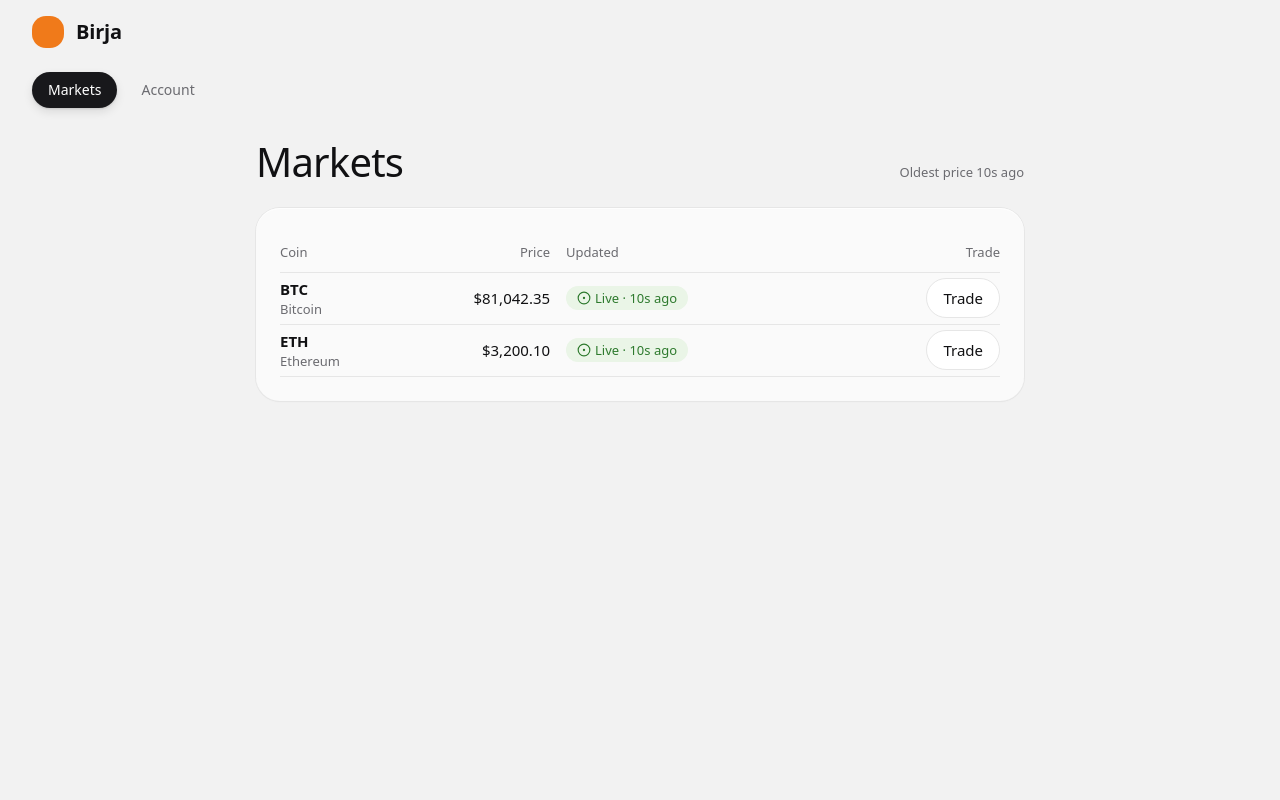
Test: App › navigates from Markets to Account
Click the link "Account" at (168, 90), box x1=142 y1=80 x2=195 y2=99
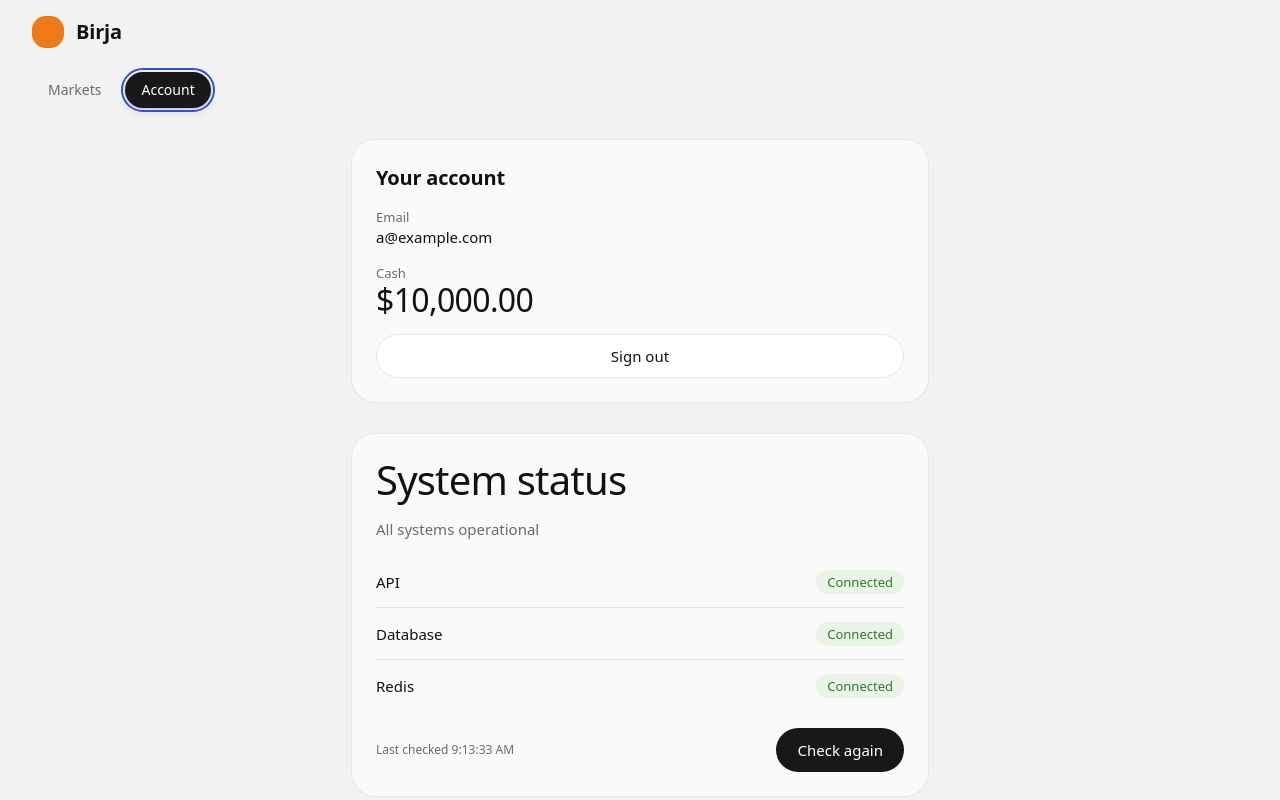
expect the text "$10,000.00" is shown: met, box x1=376 y1=278 x2=533 y2=321
